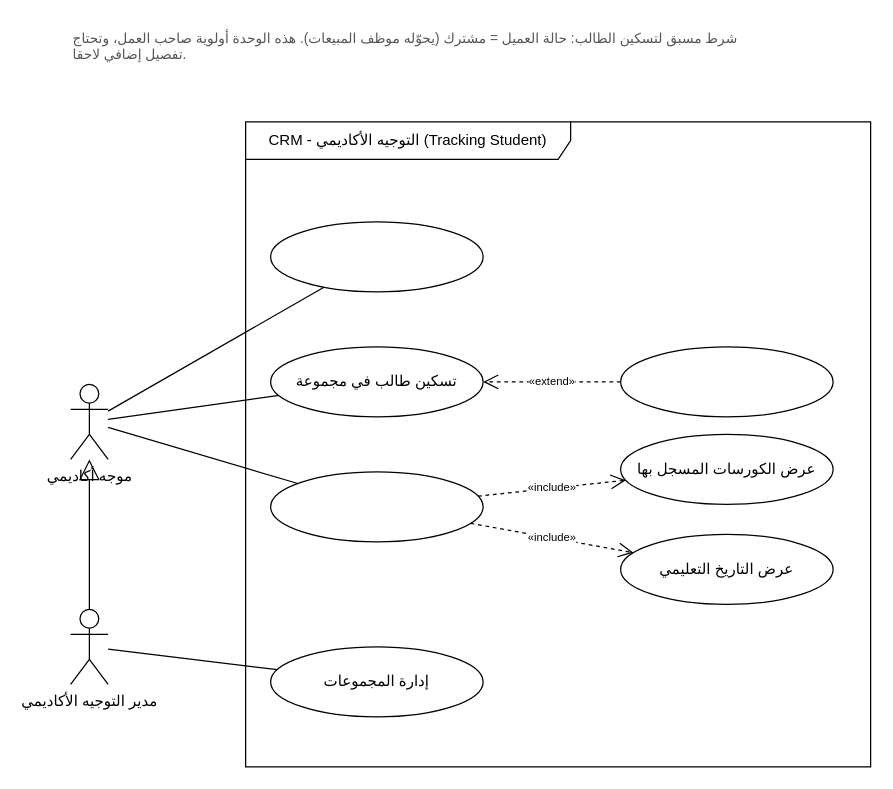
Some shapes in this 893 by 789 pixel diagram are drawn without their labels. The centre of each missing label's shape, as x and y in pixels:
"عرض العملاء المشتركين" goes at [376,256].
"متابعة السجل الأكاديمي للطالب" goes at [376,506].
"نقل الطالب إلى مجموعة أخرى" goes at [726,381].
